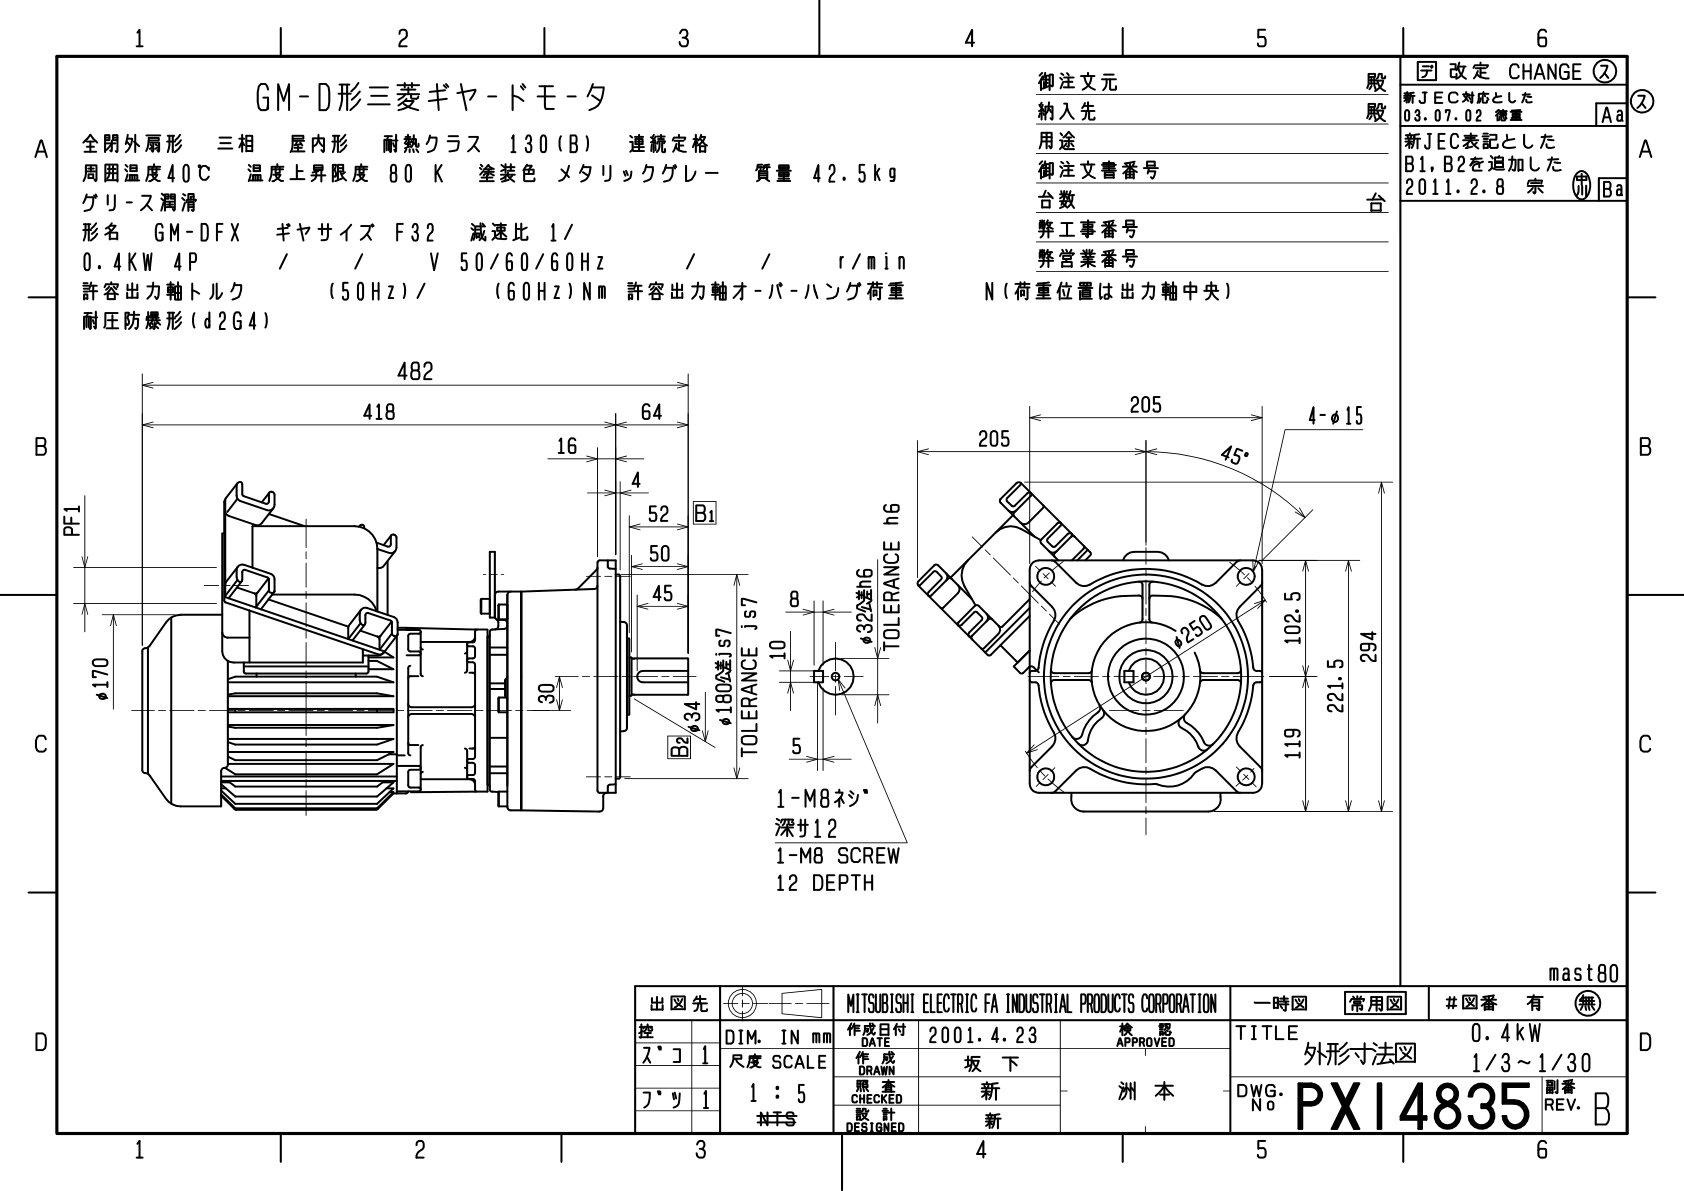GM_SP_屋内＿三相_フランジ: (61, 345, 1393, 931)
